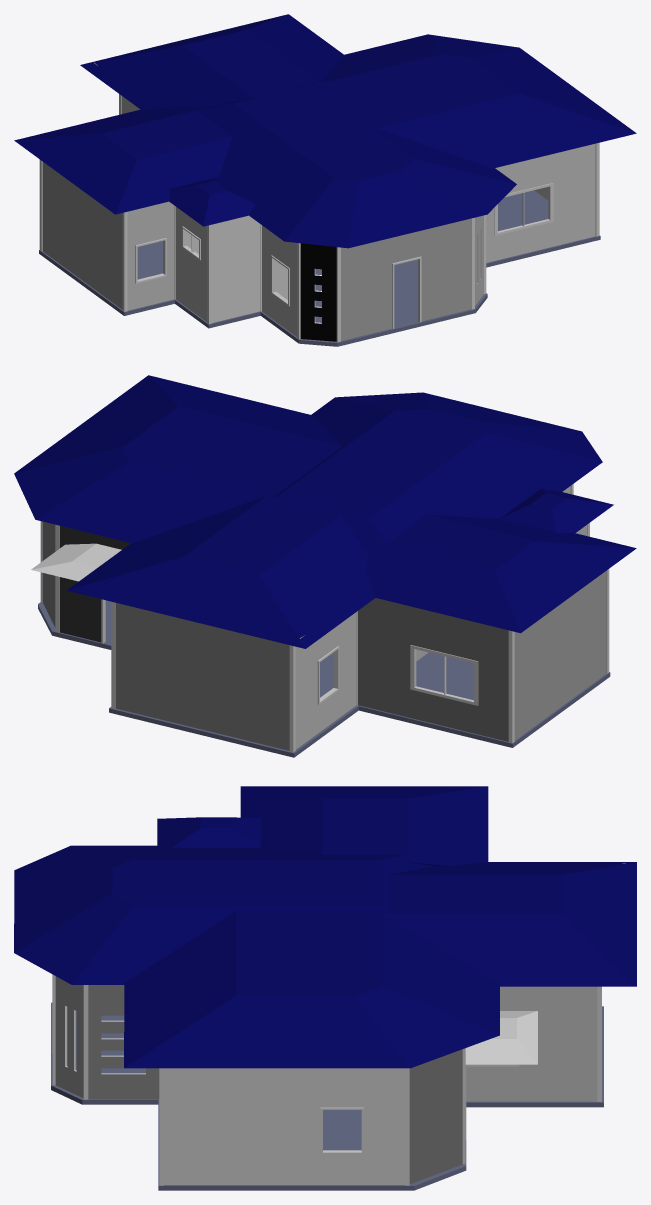
File: Casa C3-03.fbx
3 views of the same model, one above another, from view 1: azimuth 30°, elevation 25°; view 2: azimuth 150°, elevation 25°; view 3: azimuth 270°, elevation 25° (orthographic). The views are drawn at different scales.
Visible parts, largest first — view 1: Cubo.008; view 2: Cubo.008; view 3: Cubo.008.
Part boxes in pixels (x1,y1,x2,y2): Cubo.008: [14, 14, 636, 346]; Cubo.008: [14, 375, 636, 757]; Cubo.008: [14, 786, 636, 1190].
Bounding box in the file's own units: 2057 × 566 × 1918.
